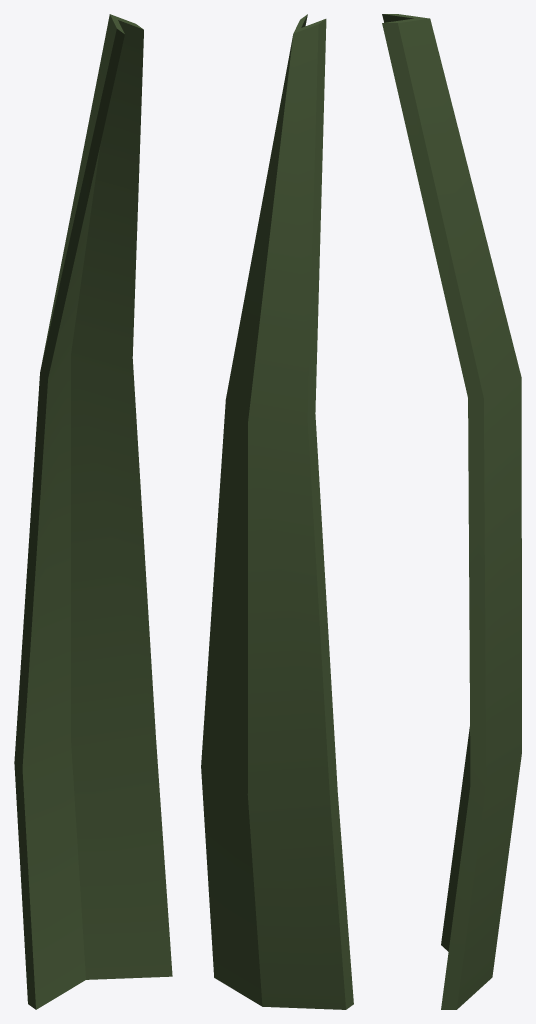
The model's file is SM_Grass_Blade_05.fbx.
3 views of the same model, side by side, from view 1: azimuth 30°, elevation 25°; view 2: azimuth 150°, elevation 25°; view 3: azimuth 270°, elevation 25° (orthographic). The views are drawn at different scales.
Visible parts, largest first — view 1: SM_Grass_Blade_05; view 2: SM_Grass_Blade_05; view 3: SM_Grass_Blade_05.
Boxes of the visible parts, x1,y1,x2,y2 form: SM_Grass_Blade_05: [14, 14, 172, 1009]; SM_Grass_Blade_05: [201, 14, 353, 1009]; SM_Grass_Blade_05: [382, 14, 521, 1009].
Bounding box in the file's own units: 14.3 × 98.46 × 13.02.
